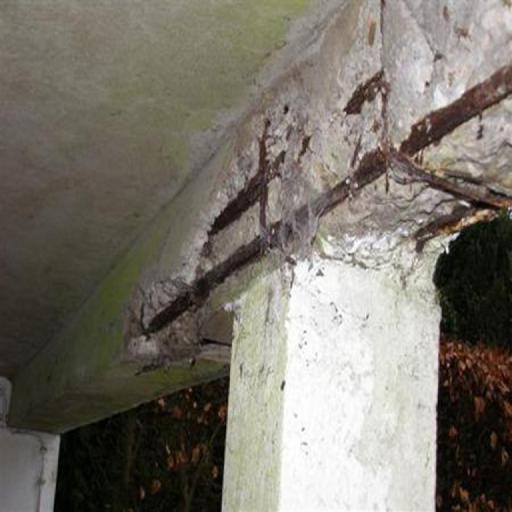exposed_rebar: (146, 236, 268, 334), (400, 64, 512, 156), (208, 119, 285, 236), (384, 144, 512, 210), (312, 148, 386, 217), (414, 206, 473, 252), (344, 71, 383, 116)
spalling: (125, 0, 512, 374)
